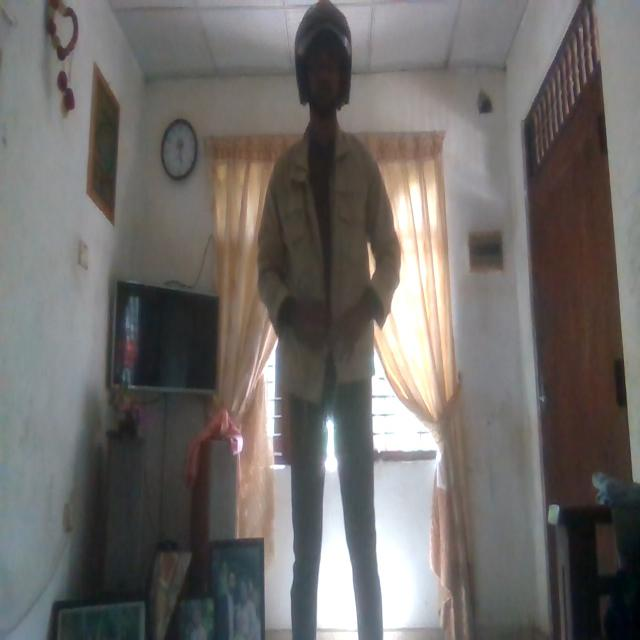Helmet_Wearer: (288, 0, 359, 130)
Jacket_Wearer: (257, 126, 403, 417)
Person: (259, 2, 402, 640)
